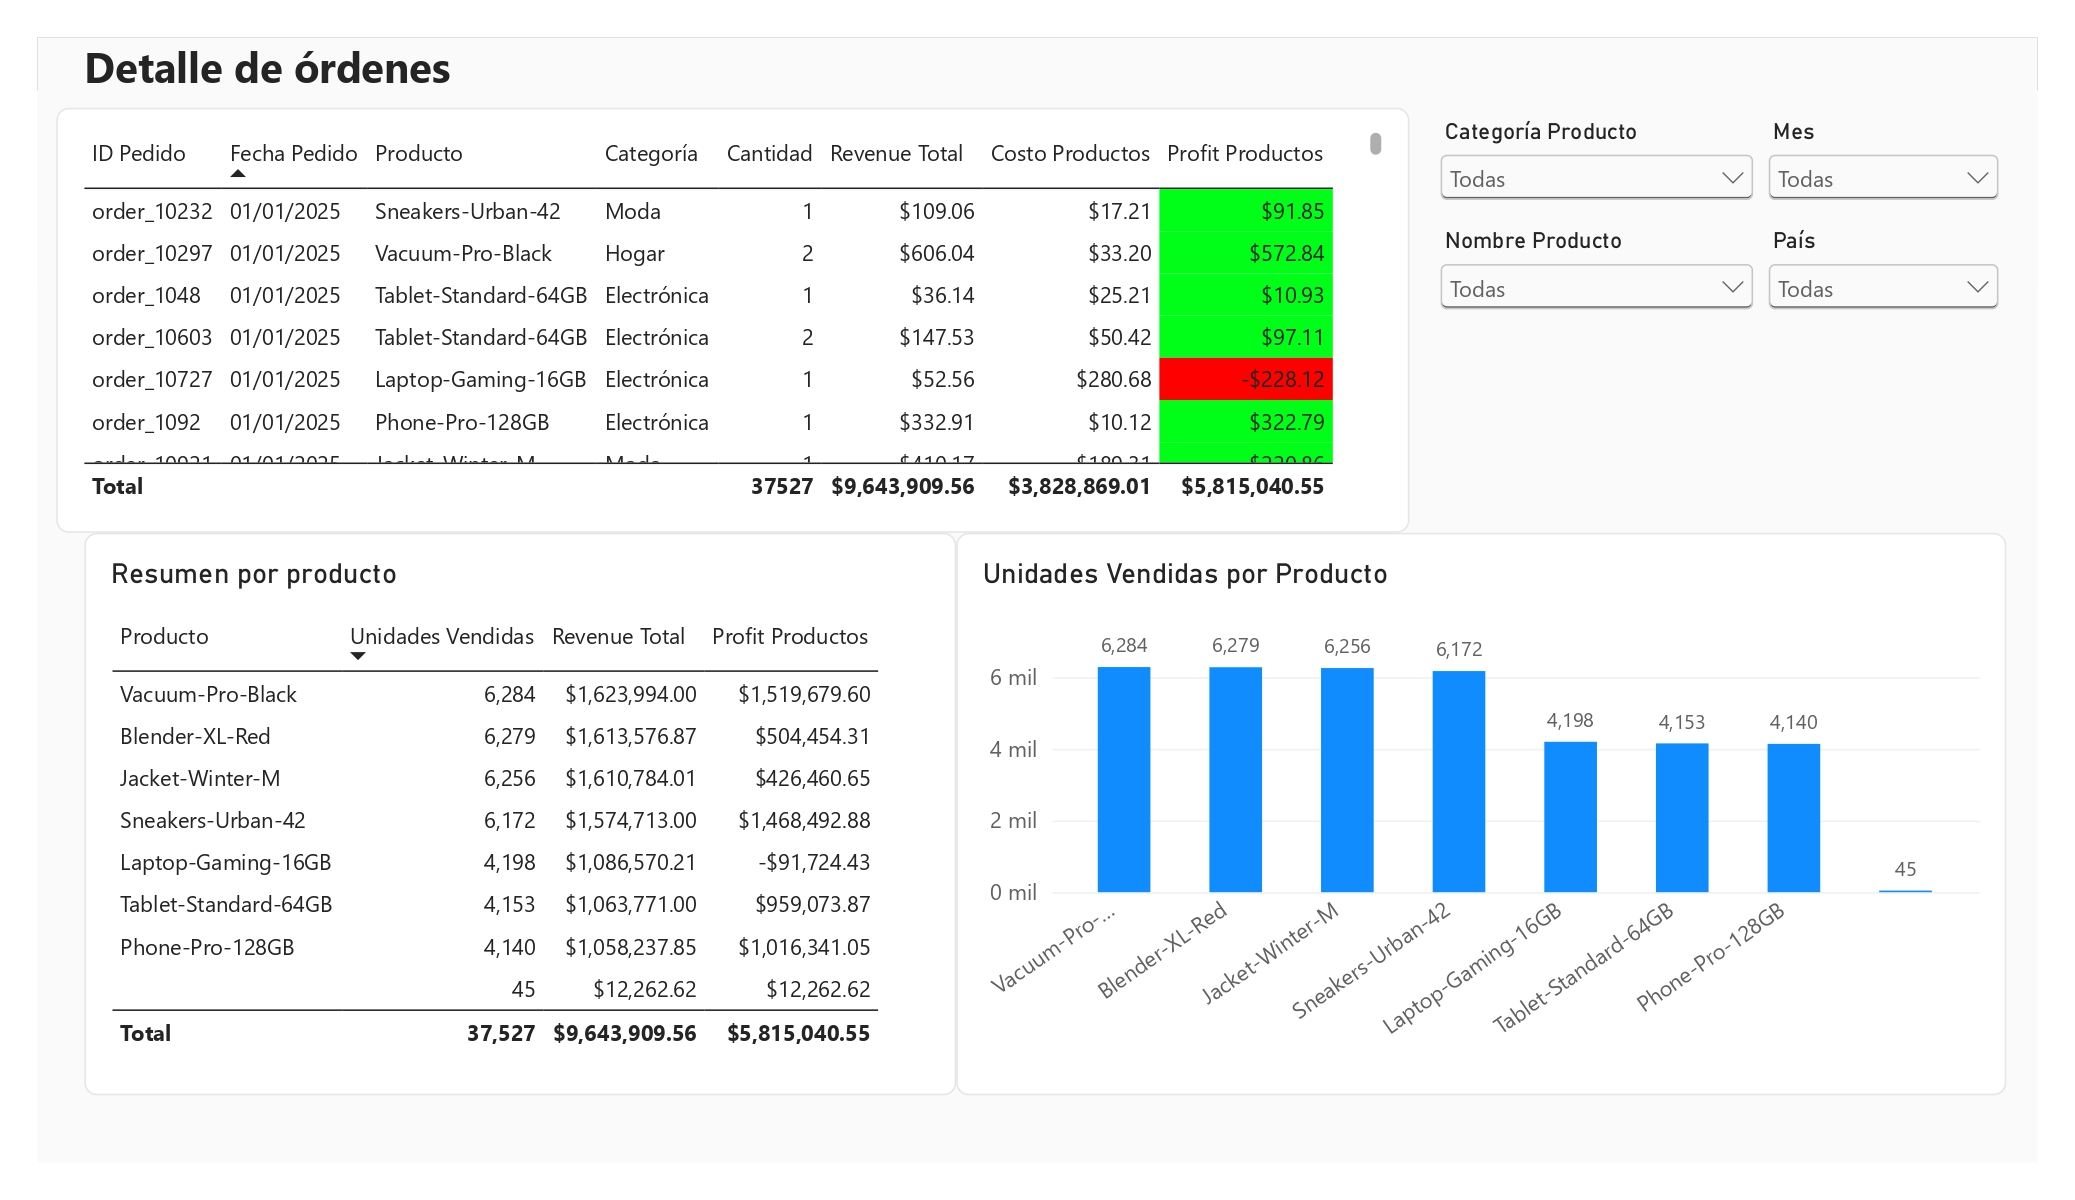

Layout of this report page (visuals, bound fields, positions):
{"tool":"powerbi","page":{"name":"Detalle / Drill-through","canvas":[1280,720],"ordinal":1},"visuals":[{"type":"tableEx","fields":{"Values":["orders_clean.id_pedido","orders_clean.FechaPedido","orders_clean.nombre_producto","orders_clean.categoria_producto","Sum(orders_clean.cantidad)","orders_clean.Revenue Total","orders_clean.Costo Productos","orders_clean.Profit Productos"]},"box":[11.7,45,866.7,271.7],"z":0},{"type":"slicer","fields":{"Values":["dim_fecha.Date.Variación.Jerarquía de fechas.Mes"]},"box":[1103.3,51.7,156.7,73.3],"z":1000},{"type":"slicer","fields":{"Values":["orders_clean.categoria_producto"]},"box":[893.3,51.7,210,73.3],"z":2000},{"type":"slicer","fields":{"Values":["orders_clean.nombre_producto"]},"box":[893.3,121.7,210,73.3],"z":3000},{"type":"slicer","fields":{"Values":["orders_clean.pais"]},"box":[1103.3,121.7,156.7,71.7],"z":4000},{"type":"tableEx","title":"Resumen por producto","fields":{"Values":["orders_clean.nombre_producto","orders_clean.Unidades Vendidas","orders_clean.Revenue Total","orders_clean.Profit Productos"]},"box":[30,316.7,558.3,360],"z":5000},{"type":"textbox","box":[30,0,1250,45],"z":6000},{"type":"clusteredColumnChart","title":"Unidades Vendidas por Producto","fields":{"Category":["orders_clean.nombre_producto"],"Y":["orders_clean.Unidades Vendidas"]},"box":[588.3,316.7,671.7,360],"z":6001}]}

Visuals, with their boxes on the page's 1280x720 design canvas (x1, y1, x2, y2). These are canvas units, not pixel positions in the 2075x1200 screenshot, which may show the page scaled, cropped or inside an application window:
tableEx - orders_clean.id_pedido x orders_clean.FechaPedido: (x1=12, y1=45, x2=878, y2=317)
slicer - dim_fecha.Date.Variación.Jerarquía de fechas.Mes: (x1=1103, y1=52, x2=1260, y2=125)
slicer - orders_clean.categoria_producto: (x1=893, y1=52, x2=1103, y2=125)
slicer - orders_clean.nombre_producto: (x1=893, y1=122, x2=1103, y2=195)
slicer - orders_clean.pais: (x1=1103, y1=122, x2=1260, y2=193)
"Resumen por producto" tableEx: (x1=30, y1=317, x2=588, y2=677)
textbox: (x1=30, y1=0, x2=1280, y2=45)
"Unidades Vendidas por Producto" clusteredColumnChart: (x1=588, y1=317, x2=1260, y2=677)
